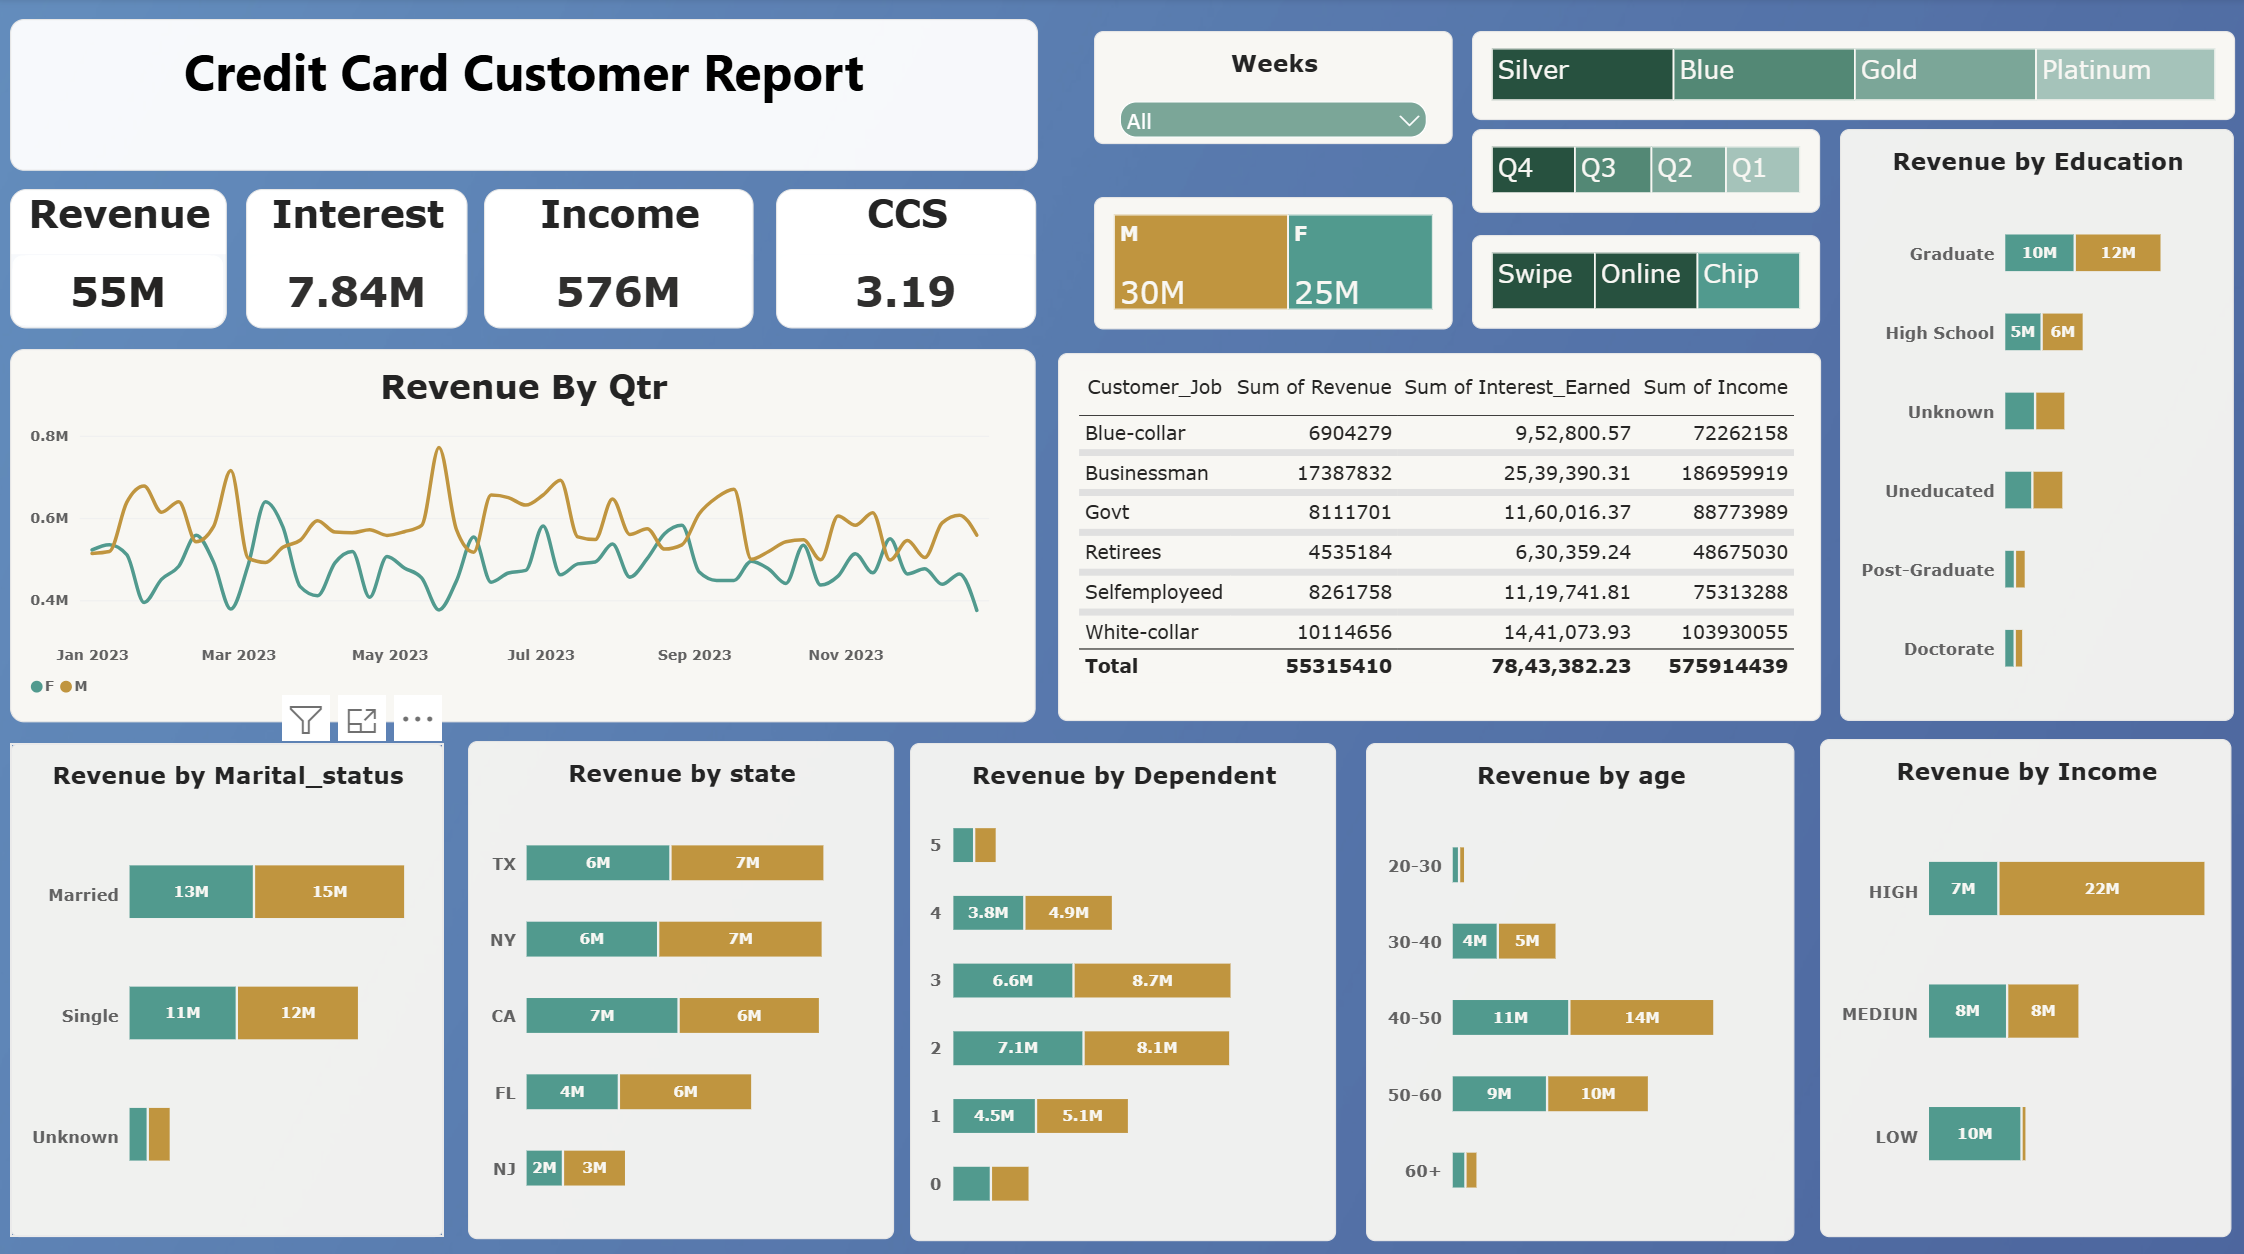

Layout of this report page (visuals, bound fields, positions):
{"tool":"powerbi","page":{"name":"CC_Customer","canvas":[1920,1080],"ordinal":1},"visuals":[{"type":"textbox","box":[10.3,18.5,876.8,129.4],"z":0},{"type":"barChart","title":"Revenue by Income","fields":{"Category":["customer (1).IncomeGroup"],"Series":["customer (1).Gender"],"Y":["Sum(credit_card.Revenue)"]},"box":[1554.5,632.5,351.1,425.1],"z":1000},{"type":"tableEx","fields":{"Values":["customer (1).Customer_Job","Sum(credit_card.Revenue)","Sum(credit_card.Interest_Earned)","Sum(customer (1).Income)"]},"box":[903.5,303.9,651,314.2],"z":2000},{"type":"cardVisual","title":"Revenue","fields":{"Data":["Sum(credit_card.Revenue)"]},"box":[10.2,163.8,184.8,119.1],"z":3000},{"type":"cardVisual","title":"CCS","fields":{"Data":["Avg(customer (1).Cust_Satisfaction_Score)"]},"box":[663.7,163.8,221.8,119.1],"z":4000},{"type":"cardVisual","title":"Income","fields":{"Data":["Sum(customer (1).Income)"]},"box":[414.6,163.8,230,119.1],"z":5000},{"type":"cardVisual","title":"Interest","fields":{"Data":["Sum(credit_card.Interest_Earned)"]},"box":[211.6,163.8,188.9,119.1],"z":6000},{"type":"slicer","title":"Weeks","fields":{"Values":["credit_card.Week_Start_Date"]},"box":[934.3,28.7,306,96.5],"z":7000},{"type":"treemap","fields":{"Group":["credit_card.Qtr"],"Values":["Avg(credit_card.Client_Num)"]},"box":[1257.4,112.6,296.9,71.7],"z":8000},{"type":"treemap","fields":{"Group":["credit_card.Card_Category"],"Values":["Avg(credit_card.Client_Num)"]},"box":[1257.4,29,651,76],"z":10000},{"type":"lineChart","title":"Revenue By Qtr","fields":{"Category":["credit_card.Week_Start_Date.Variation.Date Hierarchy.Year","credit_card.Week_Start_Date.Variation.Date Hierarchy.Quarter","credit_card.Week_Start_Date.Variation.Date Hierarchy.Month","credit_card.Week_Start_Date.Variation.Date Hierarchy.Day"],"Series":["customer (1).Gender"],"Y":["Sum(credit_card.Revenue)"]},"box":[10.3,299.8,874.8,318.3],"z":12000},{"type":"treemap","fields":{"Group":["customer (1).Gender"],"Values":["Sum(credit_card.Revenue)"]},"box":[934.3,170.4,306,112.9],"z":13000},{"type":"barChart","title":"Revenue by age","fields":{"Category":["customer (1).AgeGroup"],"Series":["customer (1).Gender"],"Y":["Sum(credit_card.Revenue)"]},"box":[1166.4,636.6,365.5,425.1],"z":14000},{"type":"barChart","title":"Revenue by Education","fields":{"Category":["customer (1).Education_Level"],"Series":["customer (1).Gender"],"Y":["Sum(credit_card.Revenue)"]},"box":[1571.4,112.6,336.1,505],"z":15000},{"type":"barChart","title":"Revenue by state","fields":{"Category":["customer (1).state_cd"],"Series":["customer (1).Gender"],"Y":["Sum(credit_card.Revenue)"]},"box":[400.4,634.5,363.5,425.1],"z":16000},{"type":"barChart","title":"Revenue by Dependent","fields":{"Category":["customer (1).Dependent_Count"],"Series":["customer (1).Gender"],"Y":["Sum(credit_card.Revenue)"]},"box":[778.5,635.8,363.5,425.1],"z":17000},{"type":"treemap","fields":{"Group":["credit_card.Use Chip"],"Values":["Avg(credit_card.Client_Num)"]},"box":[1257.4,203,296.9,80.2],"z":17001},{"type":"barChart","title":"Revenue by Marital_status","fields":{"Category":["customer (1).Marital_Status"],"Series":["customer (1).Gender"],"Y":["Sum(credit_card.Revenue)"]},"box":[10.2,636.4,370.2,421.4],"z":17002}]}

Visuals, with their boxes in screenshot pixels (x1, y1, x2, y2), scaled from the page's 1920x1080 canvas onto the 2244x1254 screenshot:
textbox: bbox=(12, 21, 1037, 172)
"Revenue by Income" barChart: bbox=(1817, 734, 2227, 1228)
tableEx - customer (1).Customer_Job x Sum(credit_card.Revenue): bbox=(1056, 353, 1817, 718)
"Revenue" cardVisual: bbox=(12, 190, 228, 328)
"CCS" cardVisual: bbox=(776, 190, 1035, 328)
"Income" cardVisual: bbox=(485, 190, 753, 328)
"Interest" cardVisual: bbox=(247, 190, 468, 328)
"Weeks" slicer: bbox=(1092, 33, 1450, 145)
treemap - credit_card.Qtr x Avg(credit_card.Client_Num): bbox=(1470, 131, 1817, 214)
treemap - credit_card.Card_Category x Avg(credit_card.Client_Num): bbox=(1470, 34, 2230, 122)
"Revenue By Qtr" lineChart: bbox=(12, 348, 1034, 718)
treemap - customer (1).Gender x Sum(credit_card.Revenue): bbox=(1092, 198, 1450, 329)
"Revenue by age" barChart: bbox=(1363, 739, 1790, 1233)
"Revenue by Education" barChart: bbox=(1837, 131, 2229, 717)
"Revenue by state" barChart: bbox=(468, 737, 893, 1230)
"Revenue by Dependent" barChart: bbox=(910, 738, 1335, 1232)
treemap - credit_card.Use Chip x Avg(credit_card.Client_Num): bbox=(1470, 236, 1817, 329)
"Revenue by Marital_status" barChart: bbox=(12, 739, 445, 1228)
